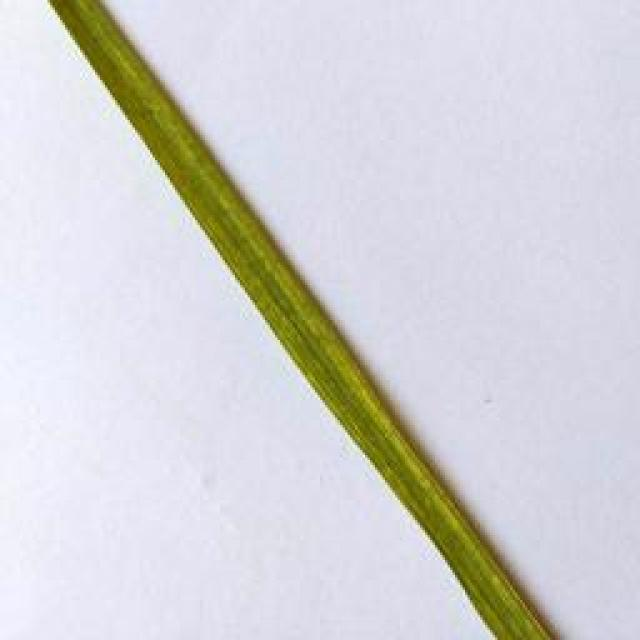Healthy-Plant: (52, 0, 554, 640)
